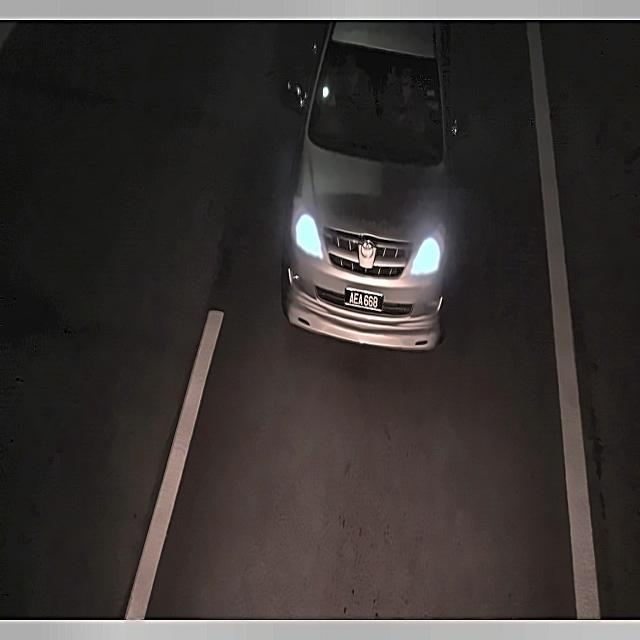car: (338, 278, 388, 319)
